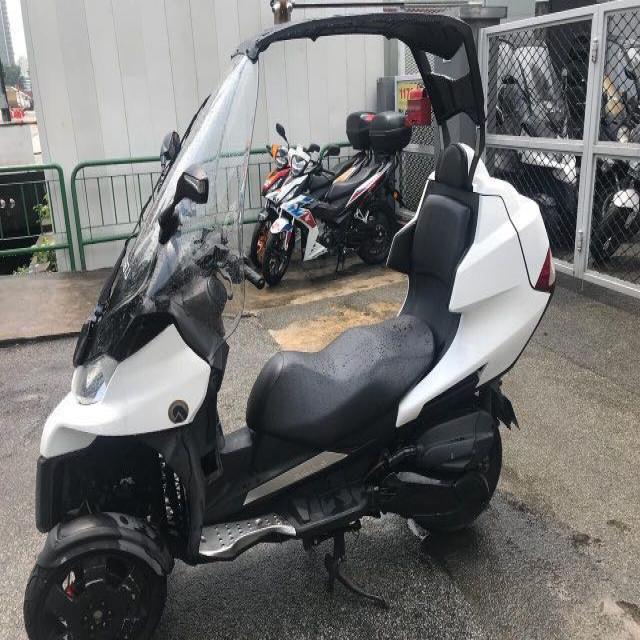Bike: (22, 12, 556, 640)
